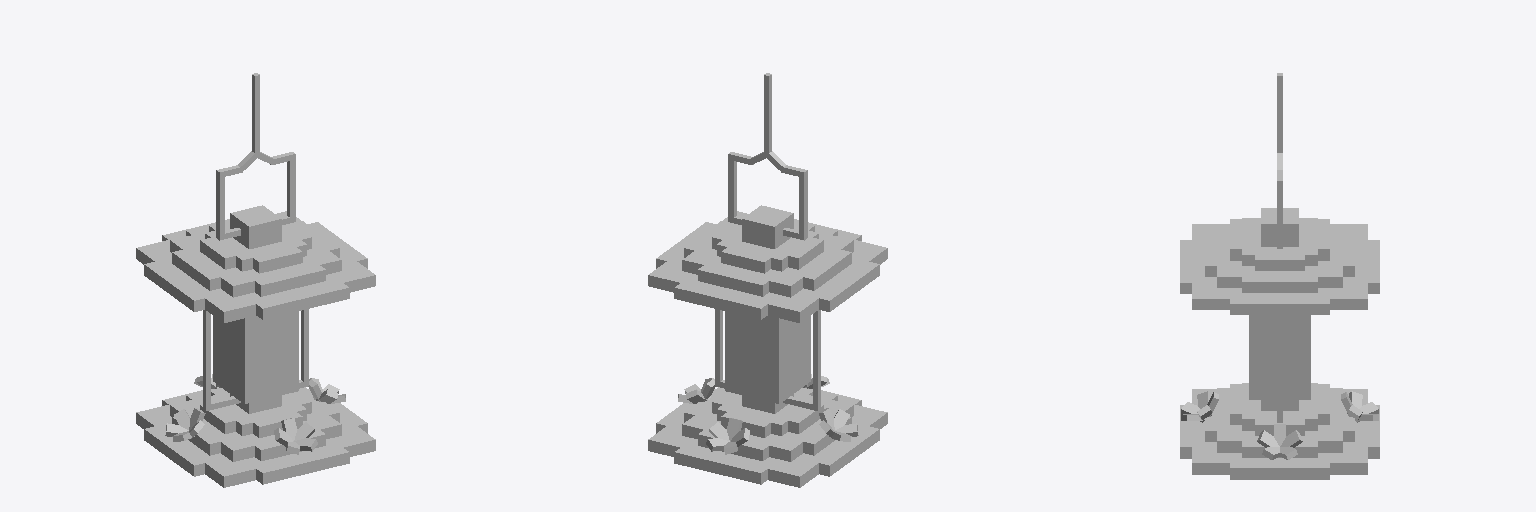
Rendered from 842_hummingbird_feeder.obj.
The picture shows the model from 3 angles: view 1: azimuth 30°, elevation 25°; view 2: azimuth 150°, elevation 25°; view 3: azimuth 270°, elevation 25°; orthographic projection.
Visible parts, largest first — view 1: Container, TopCoverA, BottomBaseA, Container4, TopCoverB, TopCoverA2, TopCoverC8, BottomBaseA2, TopCoverB2, TopCoverC, BottomBaseC, BottomBaseA7 (+17 smaller); view 2: Container2, TopCoverA, BottomBaseA, Container4, TopCoverB, TopCoverA2, TopCoverC8, BottomBaseA2, TopCoverB2, TopCoverC, BottomBaseC, BottomBaseA6 (+17 smaller); view 3: Container3, TopCoverA, TopCoverA3, BottomBaseA3, TopCoverB, TopCoverB3, BottomBaseA, TopCoverC, BottomBaseB, BottomBaseC, TopCoverC8, TopCoverC3 (+11 smaller).
Part boxes in pixels (left/top/right/bottom): Container: left=245, top=311, right=298, bottom=403; TopCoverA: left=162, top=219, right=349, bottom=319; BottomBaseA: left=162, top=390, right=349, bottom=484; Container4: left=213, top=316, right=244, bottom=403; TopCoverB: left=186, top=220, right=325, bottom=296; TopCoverA2: left=144, top=258, right=225, bottom=311; TopCoverC8: left=230, top=205, right=281, bottom=248; BottomBaseA2: left=144, top=422, right=226, bottom=476; TopCoverB2: left=172, top=246, right=241, bottom=290; TopCoverC: left=209, top=221, right=302, bottom=273; BottomBaseC: left=211, top=388, right=302, bottom=437; BottomBaseA7: left=205, top=458, right=255, bottom=487; Container2: left=725, top=311, right=778, bottom=403; TopCoverA: left=674, top=219, right=861, bottom=319; BottomBaseA: left=674, top=390, right=861, bottom=484; Container4: left=779, top=316, right=810, bottom=403; TopCoverB: left=698, top=220, right=837, bottom=296; TopCoverA2: left=798, top=258, right=879, bottom=311; TopCoverC8: left=742, top=205, right=793, bottom=248; BottomBaseA2: left=797, top=422, right=879, bottom=476; TopCoverB2: left=782, top=246, right=851, bottom=290; TopCoverC: left=721, top=221, right=814, bottom=273; BottomBaseC: left=721, top=388, right=812, bottom=437; BottomBaseA6: left=768, top=458, right=818, bottom=487; Container3: left=1249, top=315, right=1310, bottom=399; TopCoverA: left=1180, top=240, right=1379, bottom=293; TopCoverA3: left=1230, top=288, right=1329, bottom=314; BottomBaseA3: left=1230, top=453, right=1329, bottom=479; TopCoverB: left=1205, top=234, right=1354, bottom=276; TopCoverB3: left=1242, top=266, right=1317, bottom=292; BottomBaseA: left=1180, top=405, right=1379, bottom=458; TopCoverC: left=1230, top=228, right=1329, bottom=260; BottomBaseB: left=1205, top=399, right=1354, bottom=441; BottomBaseC: left=1230, top=393, right=1329, bottom=424; TopCoverC8: left=1261, top=208, right=1298, bottom=246; TopCoverC3: left=1255, top=249, right=1304, bottom=270.
Size of the model in its own units: 0.5 by 0.9988 by 0.5.